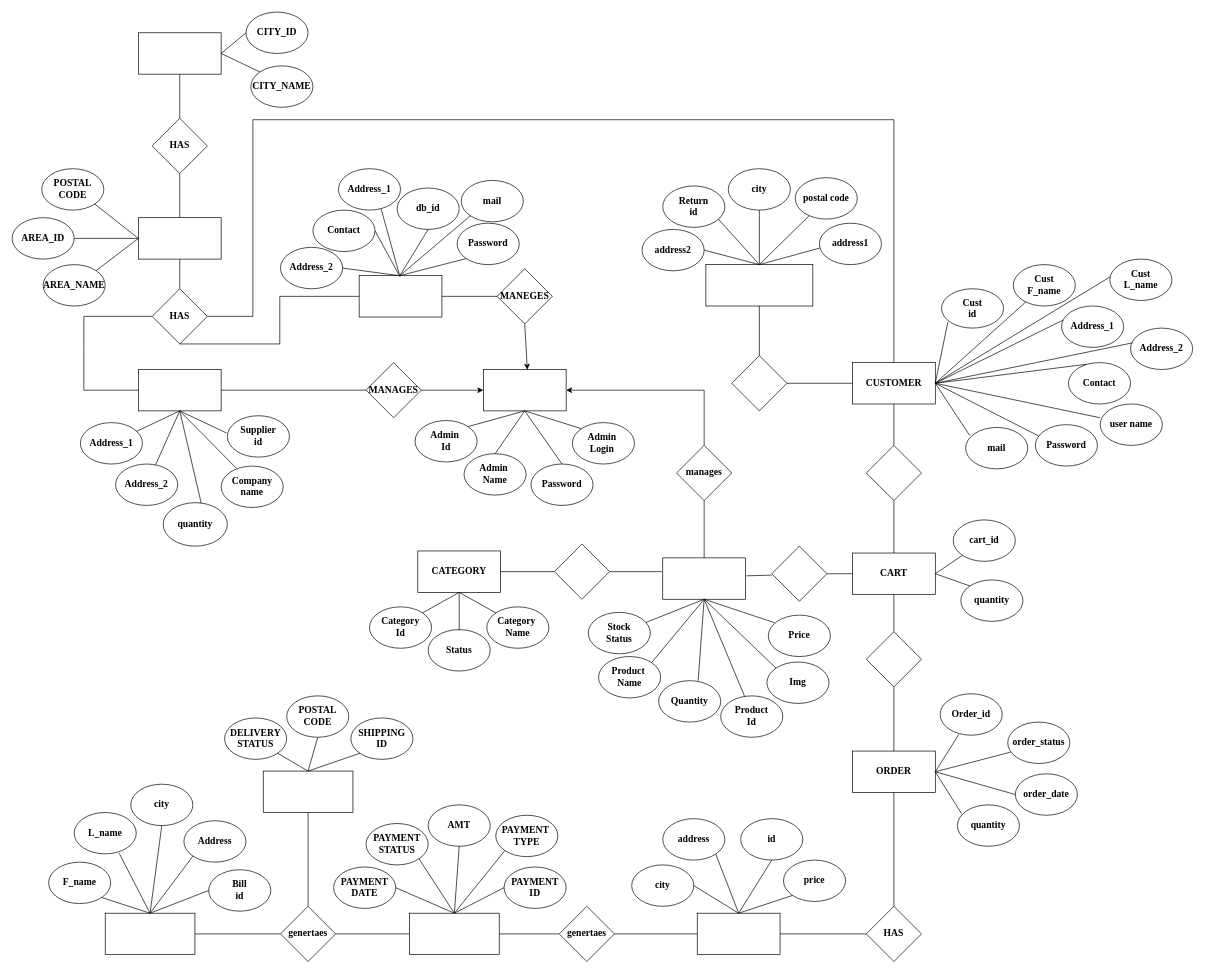
This 1205x974 diagram has some shape labels left out. The centre of each missing label's shape, as x and y in pixels:
"ADD TO" belongs at pixel 893 473.
"ADMIN" belongs at pixel 524 390.
"AREA_MASTER" belongs at pixel 179 238.
"Billing" belongs at pixel 150 934.
"CITY_MASTER" belongs at pixel 179 53.
"DELIVERY_BOY" belongs at pixel 400 296.
"FOR" belongs at pixel 582 571.
"MOVE TO" belongs at pixel 799 573.
"order_details" belongs at pixel 738 934.
"PAYMENT" belongs at pixel 454 934.
"PLACE" belongs at pixel 893 659.
"PRODUCTS" belongs at pixel 704 578.
"REQUEST" belongs at pixel 759 383.
"SALES_RETURN" belongs at pixel 759 285.
"SHIPPING" belongs at pixel 308 791.
"SUPPLIERS" belongs at pixel 179 390.
